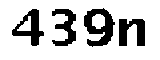3: (47, 7, 78, 48)
4: (8, 6, 47, 49)
9: (80, 10, 115, 49)
n: (117, 19, 150, 50)
